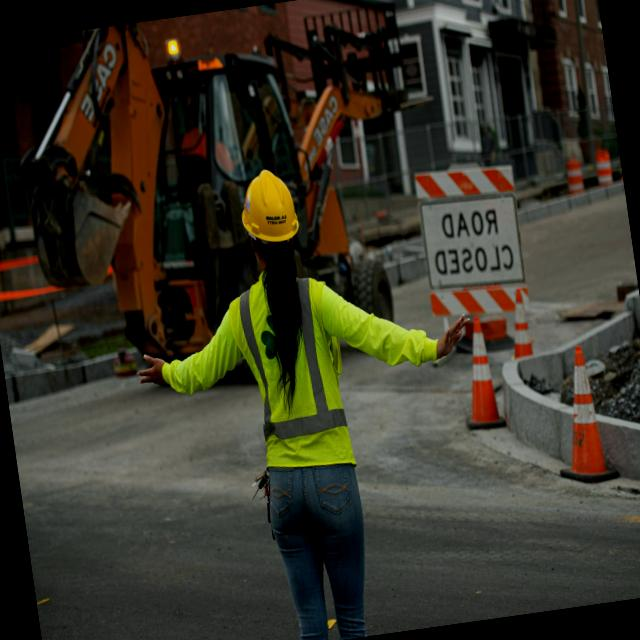helmet: (229, 152, 312, 256)
vest: (209, 266, 379, 499)
